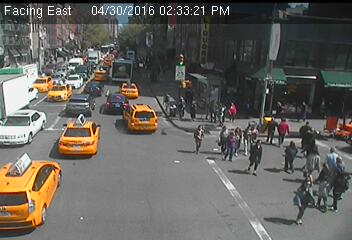neg: (323, 93, 349, 127), (36, 146, 60, 178), (301, 92, 323, 121), (221, 66, 242, 94), (108, 151, 129, 179), (141, 135, 161, 162), (170, 138, 189, 164), (154, 193, 171, 215), (264, 166, 280, 187), (79, 92, 95, 113), (137, 53, 153, 73), (64, 63, 78, 82), (115, 102, 129, 120), (266, 215, 280, 233), (257, 84, 270, 101), (192, 73, 204, 90), (33, 78, 45, 93), (168, 52, 179, 68), (72, 112, 82, 126), (122, 87, 132, 100), (109, 56, 117, 67)
pos: (289, 180, 324, 227), (321, 156, 351, 208), (310, 163, 342, 205), (241, 139, 269, 177), (186, 122, 210, 155), (280, 139, 304, 171), (322, 144, 345, 176), (302, 144, 325, 174), (220, 132, 243, 162), (272, 116, 294, 145), (261, 114, 283, 143), (155, 89, 175, 115), (214, 125, 233, 151), (297, 119, 314, 142), (242, 120, 259, 142), (231, 126, 247, 147), (174, 95, 189, 115), (224, 101, 239, 120), (206, 98, 220, 117), (186, 100, 200, 119), (180, 83, 193, 100)
